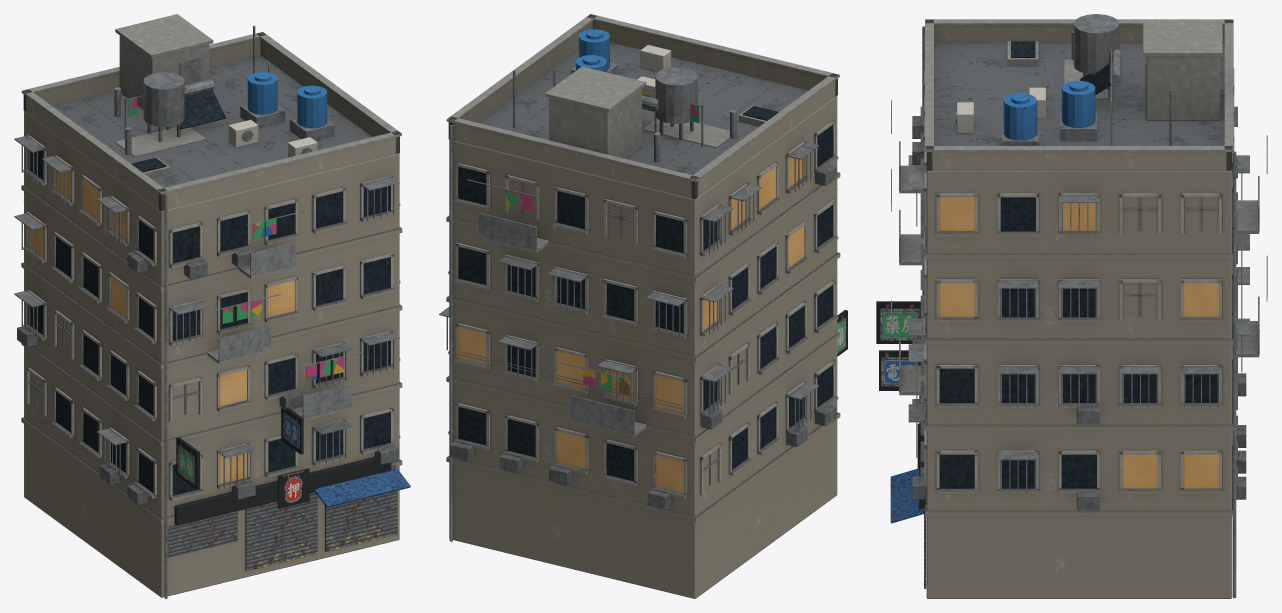
The model's file is city_tower.glb.
3 views of the same model, side by side, from view 1: azimuth 30°, elevation 25°; view 2: azimuth 150°, elevation 25°; view 3: azimuth 270°, elevation 25° (orthographic). The views are drawn at different scales.
Parts seen in each view (by area): view 1: city_tower.001; view 2: city_tower.001; view 3: city_tower.001.
Part boxes in pixels (x1,y1,x2,y2): city_tower.001: (14, 14, 410, 598); city_tower.001: (439, 14, 847, 598); city_tower.001: (876, 14, 1267, 598).
Size of the model in its own units: 11.19 by 18.02 by 12.81.
18 materials, 18 textured.
